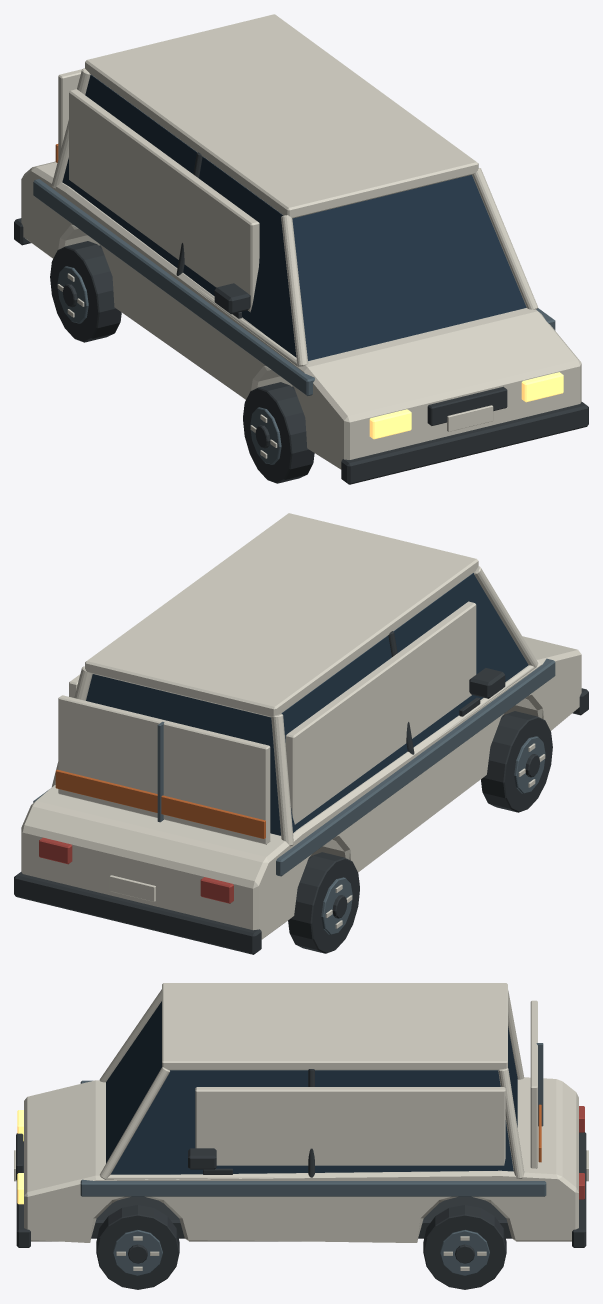
Rendered from vehicle_van_model.glb.
The picture shows the model from 3 angles, top to bottom: view 1: azimuth 30°, elevation 25°; view 2: azimuth 150°, elevation 25°; view 3: azimuth 270°, elevation 25°; orthographic projection. The views are drawn at different scales.
Visible parts, largest first — view 1: BH_Van_01_RenderMesh, BH_Van_01_LightMesh; view 2: BH_Van_01_RenderMesh; view 3: BH_Van_01_RenderMesh.
Boxes of the visible parts, box(x1,y1,x2,y2) form: BH_Van_01_RenderMesh: box(14, 14, 588, 484); BH_Van_01_LightMesh: box(369, 372, 563, 439); BH_Van_01_RenderMesh: box(14, 513, 588, 954); BH_Van_01_RenderMesh: box(14, 983, 588, 1289).
Size of what is drawn, in the model's own units: 2.27 by 1.98 by 4.82.
